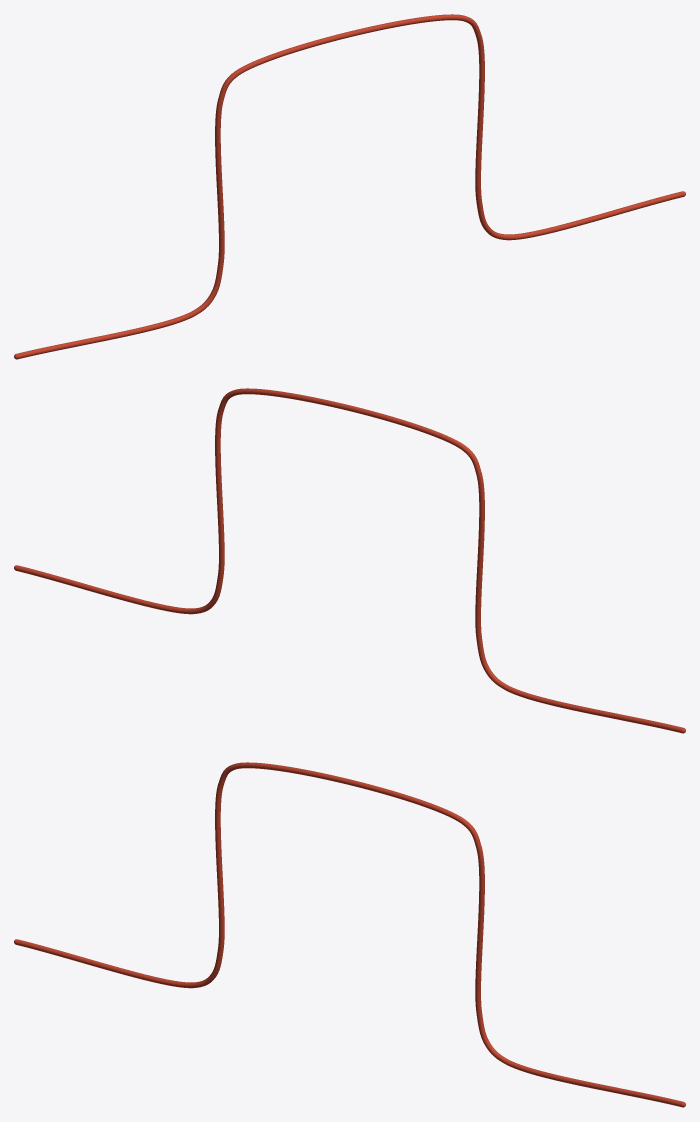
Rendered from line-step.glb.
3 views of the same model, one above another, from view 1: azimuth 30°, elevation 25°; view 2: azimuth 150°, elevation 25°; view 3: azimuth 330°, elevation 25° (orthographic).
Visible parts, largest first — view 1: line; view 2: line; view 3: line.
Boxes of the visible parts, box(x1,y1,x2,y2) form: line: box(17, 14, 684, 359); line: box(15, 388, 682, 733); line: box(15, 762, 682, 1107).
Bounding box in the file's own units: 3.22 × 1.15 × 0.024.
